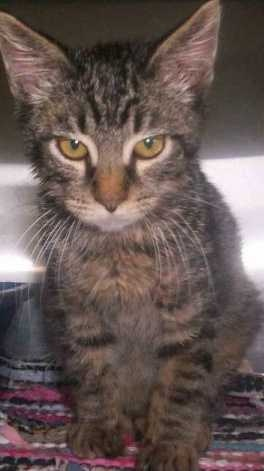Cat: (0, 0, 221, 234)
